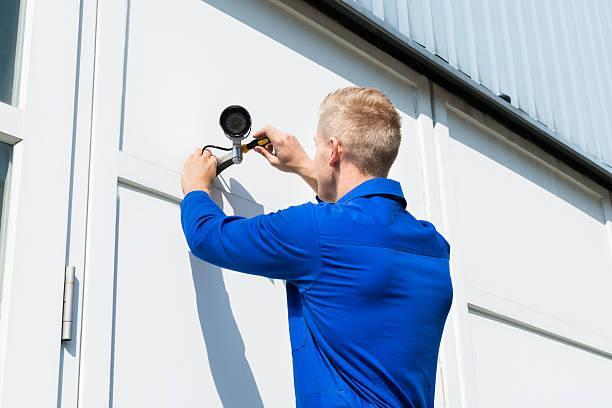camera: (191, 74, 282, 172)
